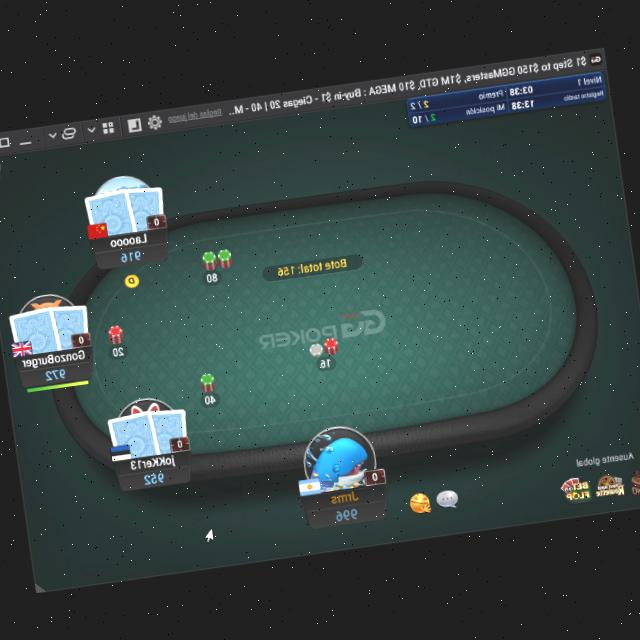bet_text: (202, 389, 218, 405), (110, 342, 126, 358), (204, 268, 220, 282), (318, 355, 334, 368)
card_back: (80, 182, 138, 240), (106, 404, 162, 462), (7, 302, 62, 358), (120, 180, 170, 233), (44, 298, 94, 350), (144, 402, 193, 454)
dealer: (122, 270, 142, 288)
pot_text: (274, 254, 349, 278)
stack_text: (332, 503, 360, 522), (42, 364, 67, 381), (118, 245, 142, 262), (142, 469, 166, 484)
